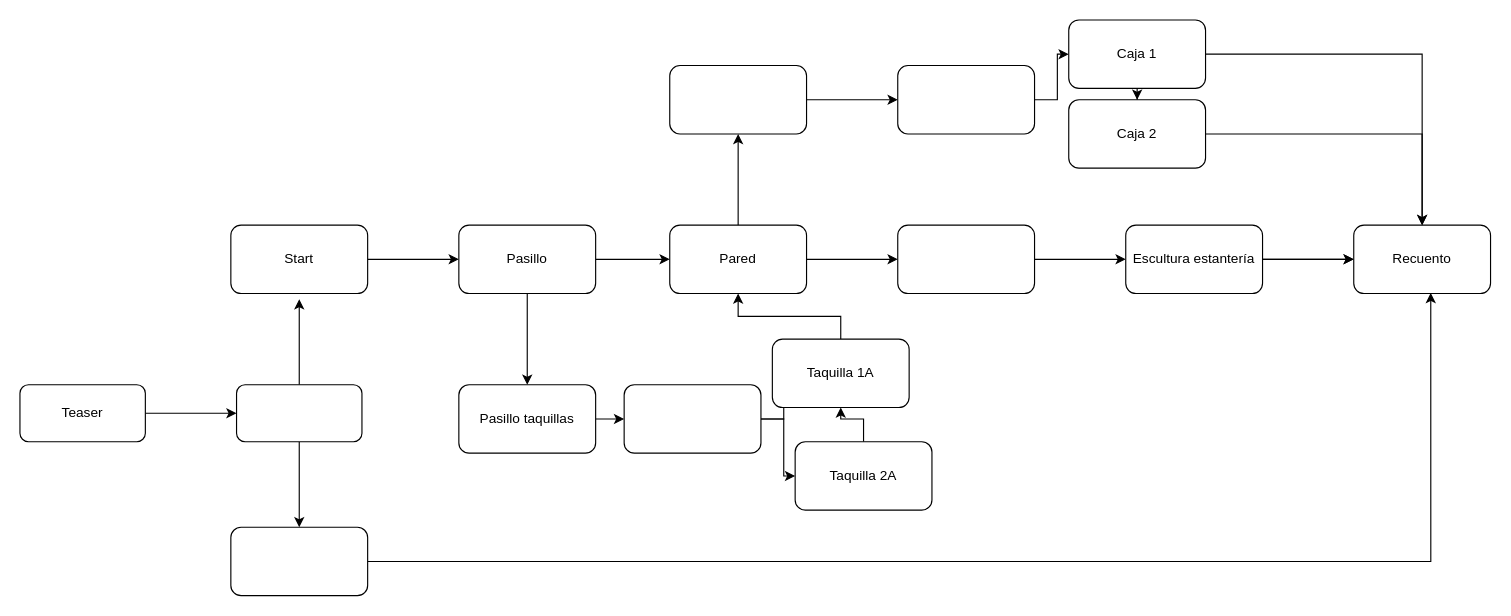
Some shapes in this 1511 by 616 pixel diagram are drawn without their labels. The shapes that lost their labels are listed below. From the top down, each one's box as (x1, y1, x2, y2) in pixels, then its label:
(669, 64, 807, 134): Almacén de pintura
(897, 64, 1035, 134): Pintura escalera
(897, 224, 1035, 294): Almacén de escultura
(235, 384, 362, 442): Menú
(623, 384, 761, 453): Elección taquillas
(230, 526, 368, 596): Galería
